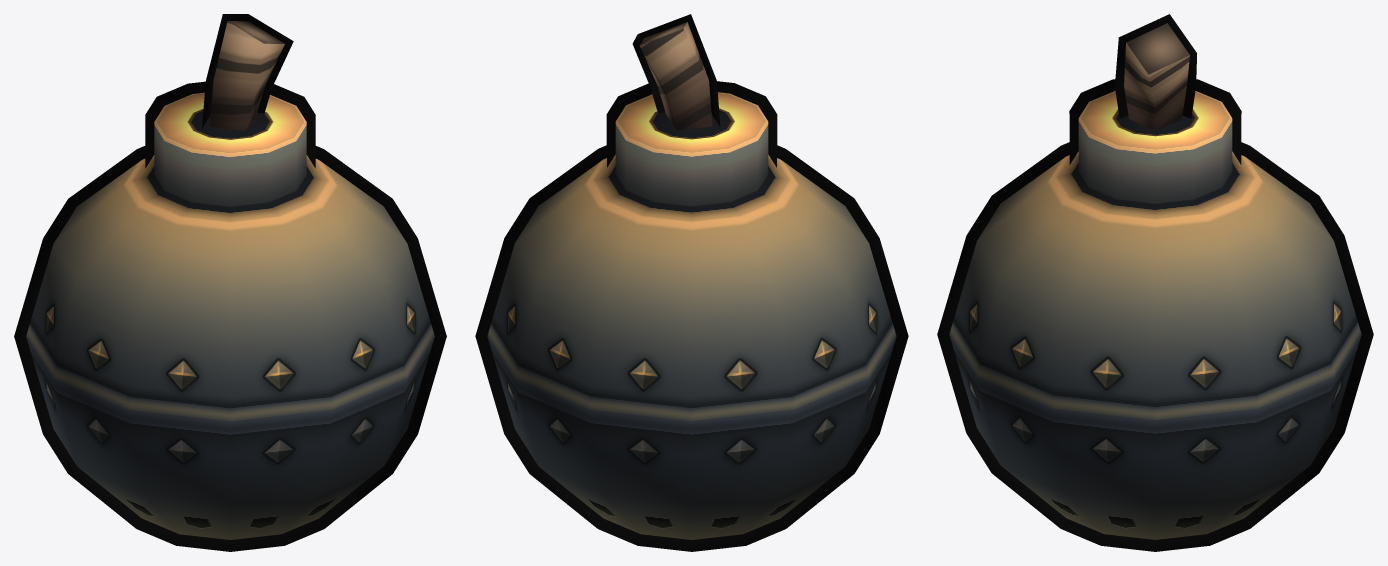
File: FokkerSkill.FBX
3 renders of one model, left to right at view 1: azimuth 30°, elevation 25°; view 2: azimuth 150°, elevation 25°; view 3: azimuth 270°, elevation 25°, orthographic.
Visible parts, largest first — view 1: Sphere002; view 2: Sphere002; view 3: Sphere002.
Part boxes in pixels (x1,y1,x2,y2): Sphere002: (14,14,446,551); Sphere002: (475,14,908,551); Sphere002: (937,14,1373,551).
Bounding box in the file's own units: 35.71 × 46.75 × 35.71.
